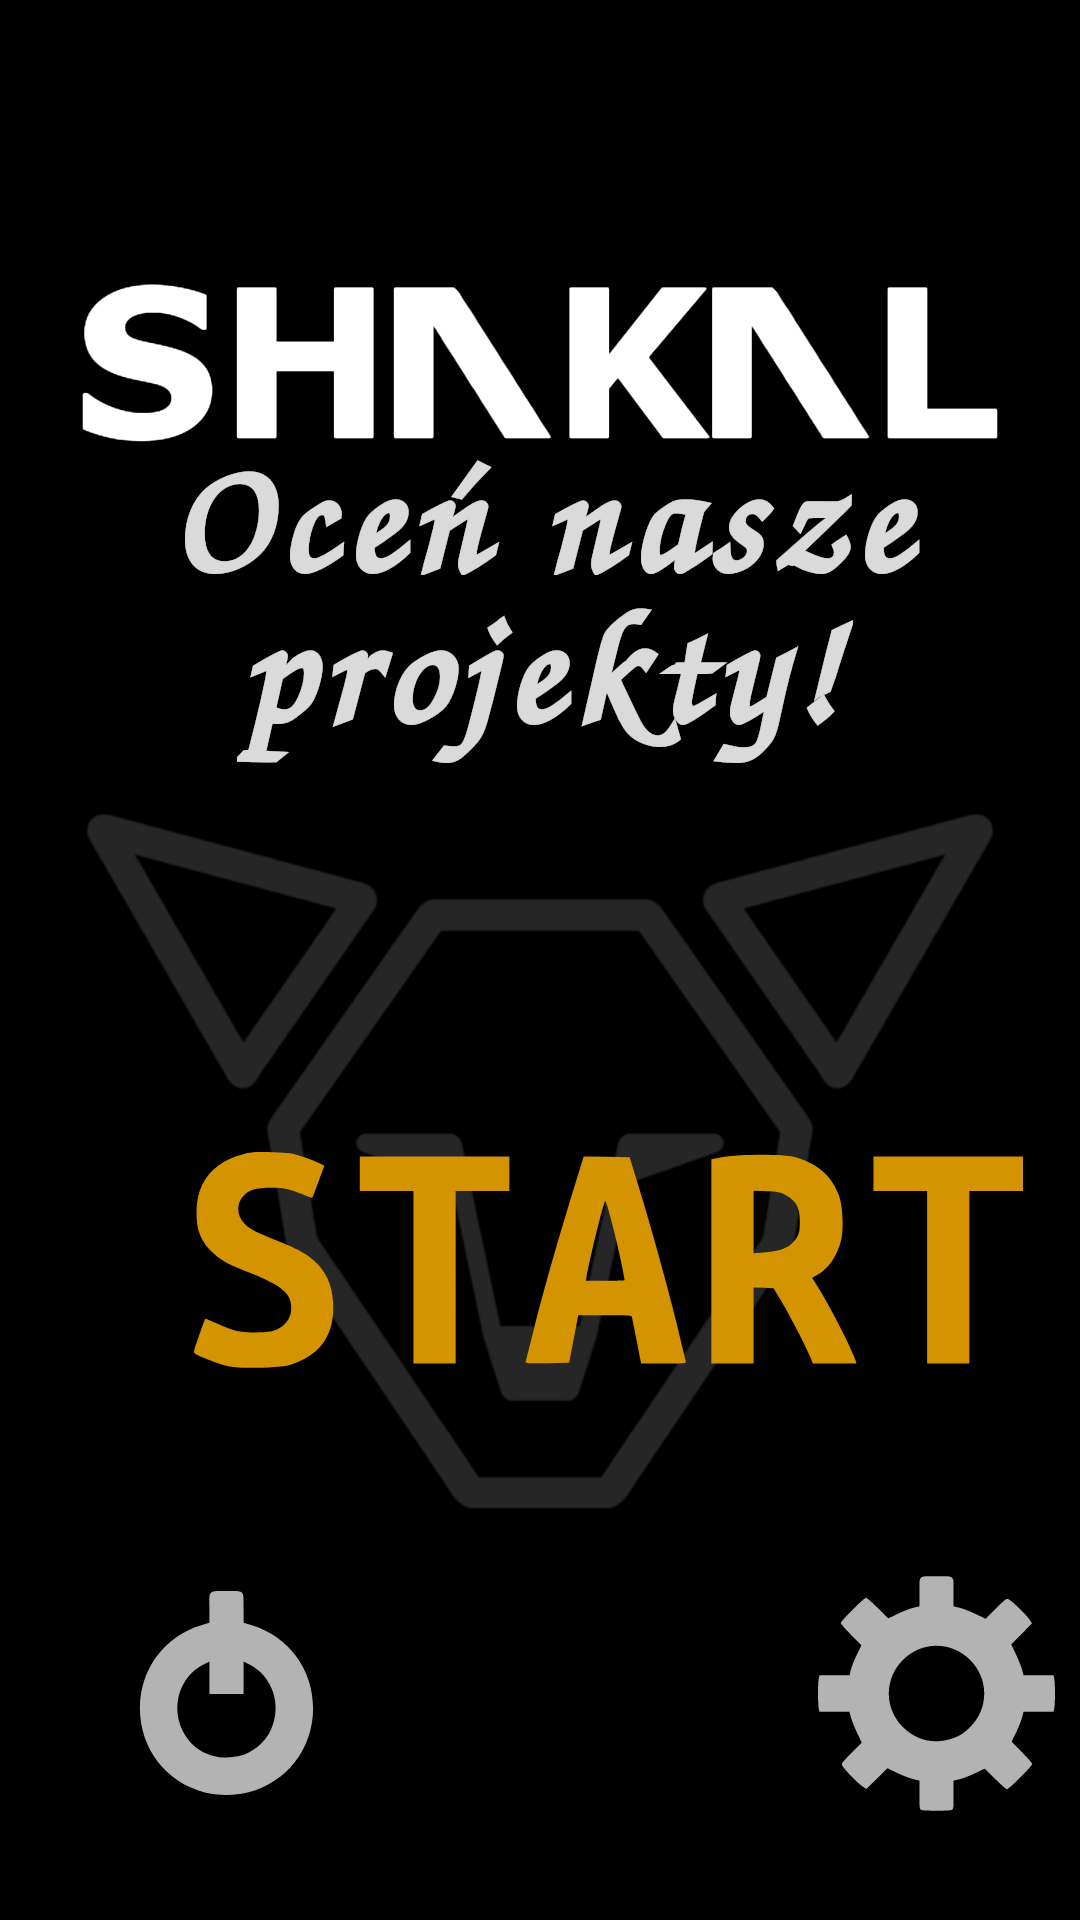

Locate icon controls on the screen. Image size 1080x1920, boxes as box(x1, y1, x2, y2).
exit: box(140, 1591, 313, 1795)
settings: box(818, 1576, 1055, 1811)
